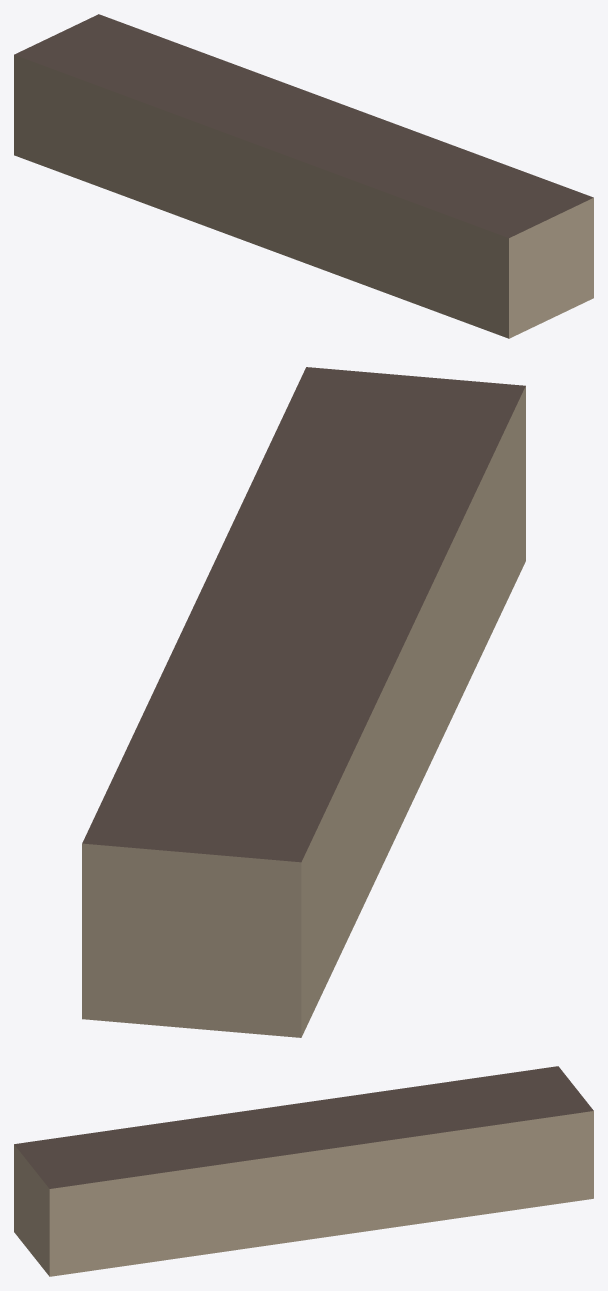
3 renders of one model, top to bottom at view 1: azimuth 30°, elevation 25°; view 2: azimuth 150°, elevation 25°; view 3: azimuth 270°, elevation 25°, orthographic. The views are drawn at different scales.
Parts seen in each view (by area): view 1: HP-w1286957267; view 2: HP-w1286957267; view 3: HP-w1286957267.
Boxes of the visible parts, box(x1,y1,x2,y2) form: HP-w1286957267: box(14, 14, 593, 338); HP-w1286957267: box(82, 367, 525, 1037); HP-w1286957267: box(14, 1066, 593, 1276).
Bounding box in the file's own units: 27.02 × 9 × 53.87.
